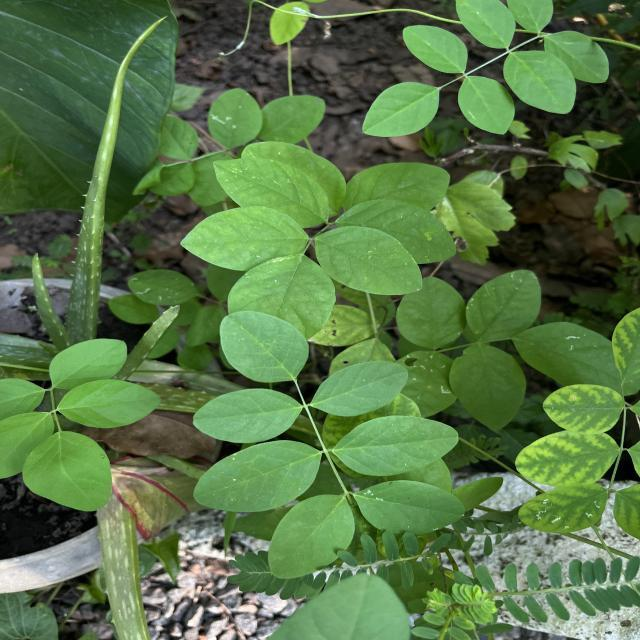Clitoria ternatea: (192, 440, 324, 513), (332, 414, 459, 478), (267, 494, 356, 580), (219, 310, 310, 384), (192, 387, 304, 444), (354, 480, 466, 536), (310, 360, 410, 418)
